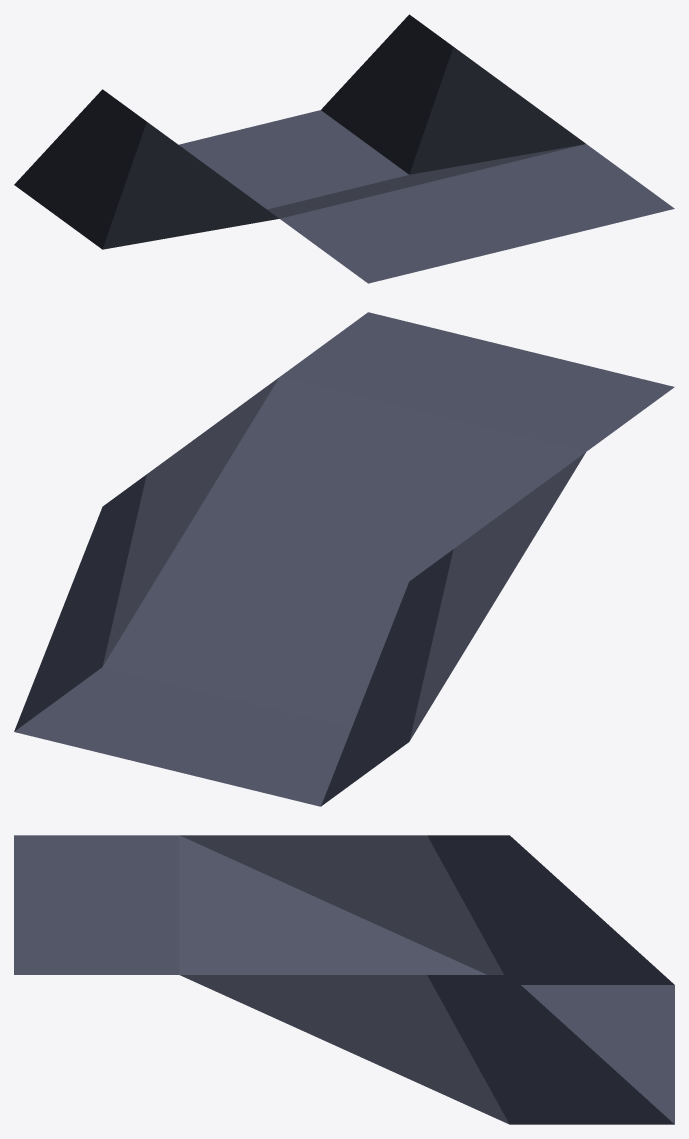
Rendered from terrain_rampLarge_detailed.glb.
The picture shows the model from 3 angles, top to bottom: view 1: azimuth 30°, elevation 25°; view 2: azimuth 150°, elevation 25°; view 3: azimuth 270°, elevation 25°; orthographic projection. The views are drawn at different scales.
Parts seen in each view (by area): view 1: terrain_rampLarge_detailed; view 2: terrain_rampLarge_detailed; view 3: terrain_rampLarge_detailed.
Boxes of the visible parts, <box> form: terrain_rampLarge_detailed: <box>14,14,674,283</box>; terrain_rampLarge_detailed: <box>14,312,674,806</box>; terrain_rampLarge_detailed: <box>14,835,674,1124</box>.
Size of the model in its own units: 1 by 0.5 by 2.
